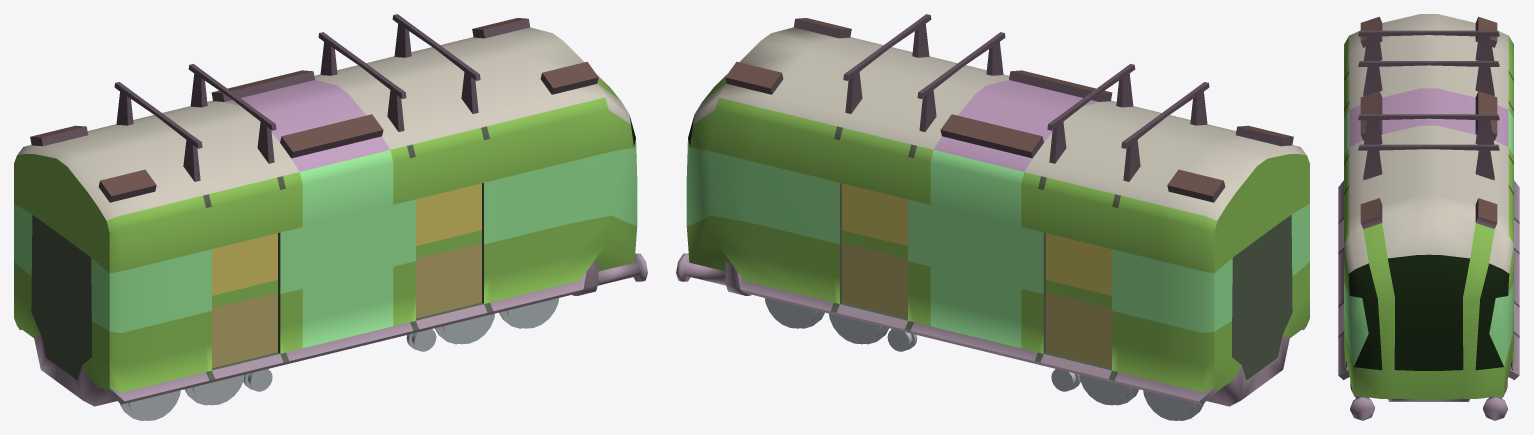
File: trainfront.glb
The picture shows the model from 3 angles, left to right: view 1: azimuth 30°, elevation 25°; view 2: azimuth 150°, elevation 25°; view 3: azimuth 270°, elevation 25°; orthographic projection. The views are drawn at different scales.
Visible parts, largest first — view 1: Cube.001, Cylinder.001; view 2: Cube.001, Cylinder.001; view 3: Cube.001.
Boxes of the visible parts, bbox=[...] form: Cube.001: bbox=[14, 14, 647, 406]; Cylinder.001: bbox=[119, 298, 559, 420]; Cube.001: bbox=[676, 14, 1309, 406]; Cylinder.001: bbox=[764, 298, 1204, 420]; Cube.001: bbox=[1338, 14, 1519, 420].
Size of the model in its own units: 9.25 by 4.34 by 3.2.
1 material, 1 textured.
